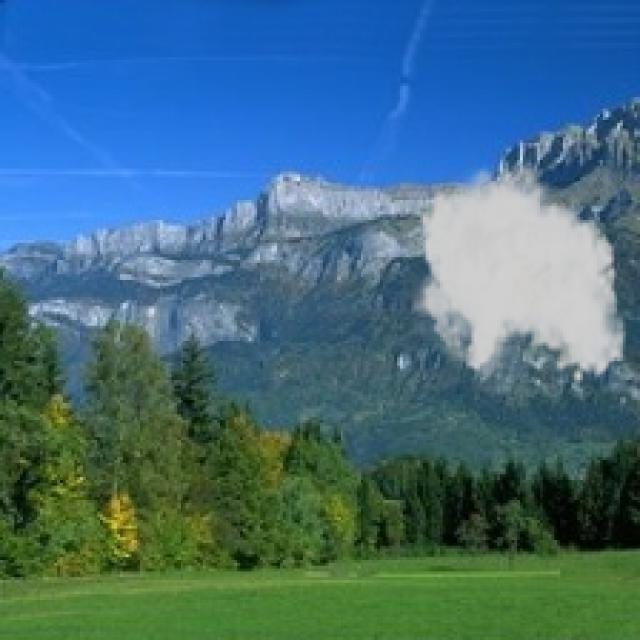Smoke: (406, 157, 628, 386)
